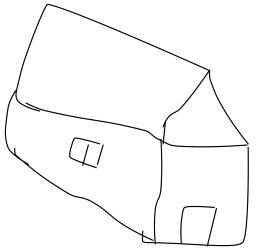big_house: (1, 1, 260, 252)
closed_window: (62, 129, 110, 171)
door: (175, 200, 221, 249)
roof: (10, 2, 254, 152)
wall: (142, 135, 255, 252)
